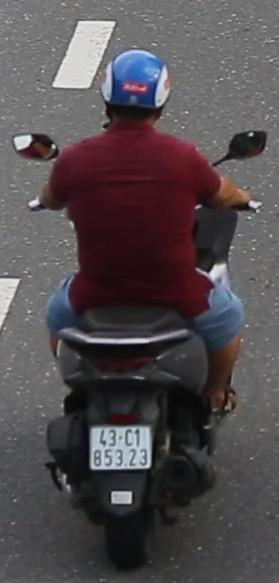LP: (87, 420, 156, 474)
helmet: (98, 44, 173, 134)
